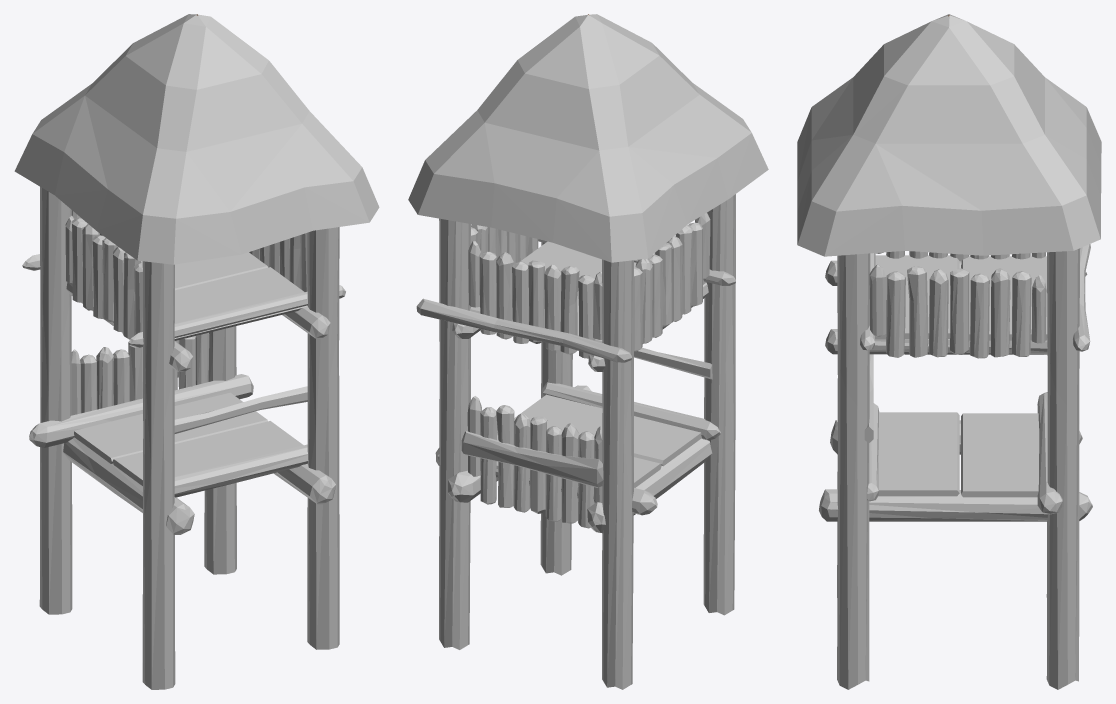
Rendered from WatchTower_1_LOD1.fbx.
3 views of the same model, side by side, from view 1: azimuth 30°, elevation 25°; view 2: azimuth 150°, elevation 25°; view 3: azimuth 270°, elevation 25° (orthographic). The views are drawn at different scales.
Visible parts, largest first — view 1: Wood, Alpha; view 2: Wood, Alpha; view 3: Wood, Alpha.
Boxes of the visible parts, x1,y1,x2,y2 form: Wood: (22,187,345,689); Alpha: (14,14,379,264); Wood: (416,194,735,689); Alpha: (408,14,768,262); Wood: (819,244,1092,689); Alpha: (797,14,1101,256).
Bounding box in the file's own units: 643 × 685 × 1562.
